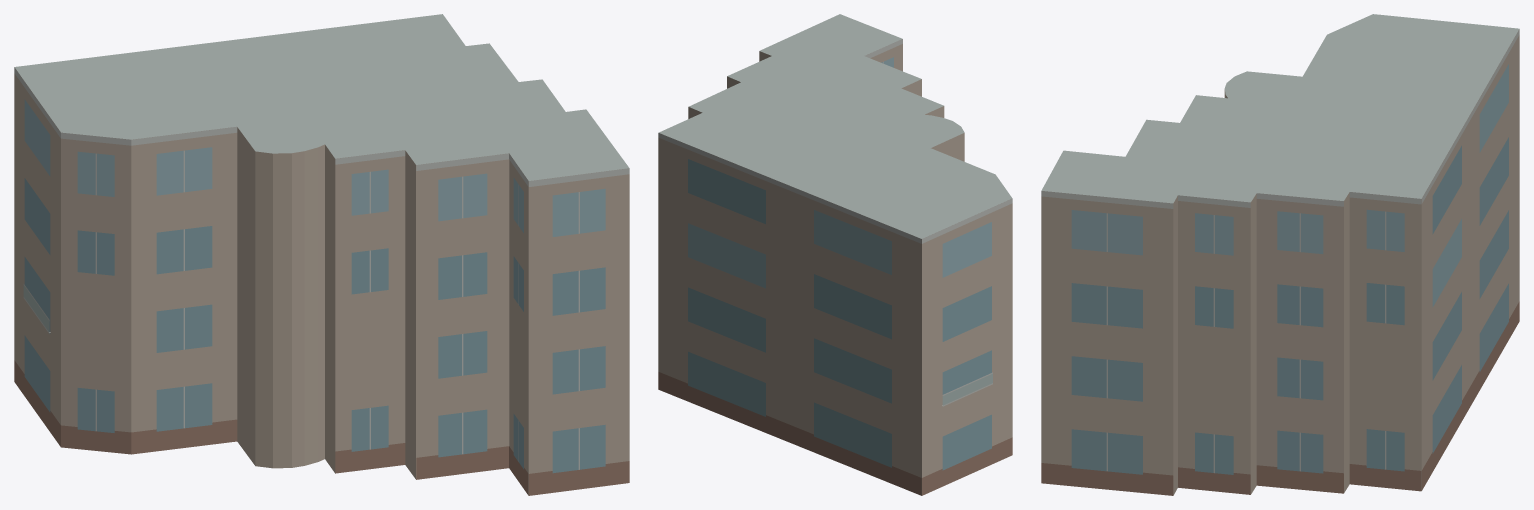
Rendered from survey-upis-32871507.glb.
3 views of the same model, side by side, from view 1: azimuth 30°, elevation 25°; view 2: azimuth 150°, elevation 25°; view 3: azimuth 270°, elevation 25° (orthographic). The views are drawn at different scales.
Visible parts, largest first — view 1: survey-upis-32871507.tmp; view 2: survey-upis-32871507.tmp; view 3: survey-upis-32871507.tmp.
Boxes of the visible parts, bbox=[...] form: survey-upis-32871507.tmp: bbox=[14, 14, 629, 495]; survey-upis-32871507.tmp: bbox=[658, 14, 1012, 495]; survey-upis-32871507.tmp: bbox=[1041, 14, 1519, 495].
Bounding box in the file's own units: 17.65 × 12.7 × 18.84.
